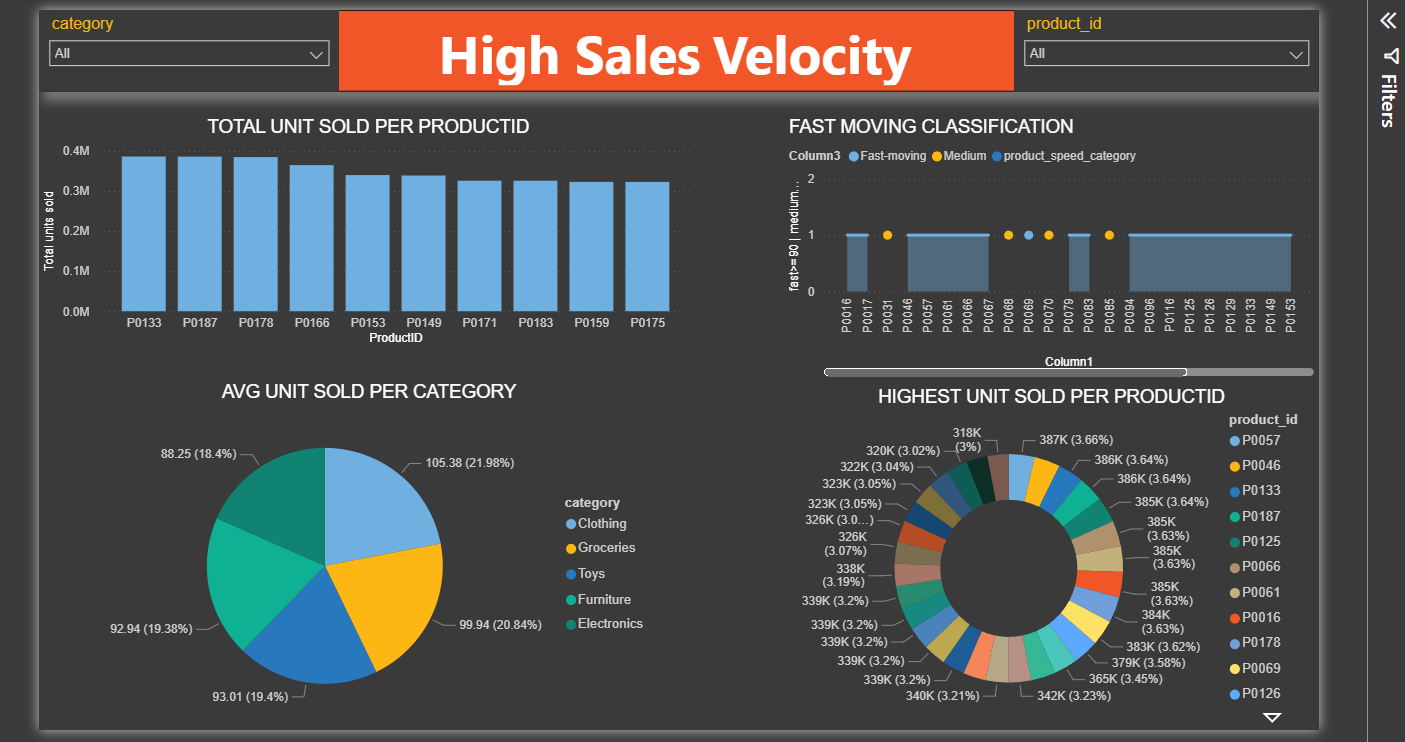

The page's visual inventory and layout, read from the dashboard file:
{"tool":"powerbi","page":{"name":"Page 1","canvas":[1280,720],"ordinal":0},"visuals":[{"type":"pieChart","title":"AVG UNIT SOLD PER CATEGORY","fields":{"Category":["fast moving products by category.category"],"Y":["Sum(fast moving products by category.average_unit_sold)"]},"box":[41.2,371.2,577.5,348.8],"z":0},{"type":"textbox","box":[0,0,1280,81.2],"z":1000},{"type":"donutChart","title":"HIGHEST UNIT SOLD PER PRODUCTID","fields":{"Category":["Total Units Sold per Product.product_id"],"Y":["Sum(Total Units Sold per Product.sum(units_sold))"]},"box":[745,376.2,535,343.8],"z":2000},{"type":"clusteredColumnChart","title":"TOTAL UNIT SOLD PER PRODUCTID","fields":{"Category":["TOTAL UNIT SOLD PER PRODUCTID.product_id"],"Y":["Sum(TOTAL UNIT SOLD PER PRODUCTID.sum(units_sold))"]},"box":[0,106.2,658.8,233.8],"z":3000},{"type":"areaChart","title":"FAST MOVING CLASSIFICATION","fields":{"Category":["FAST MOVING CLASSIFICATION.Column1"],"Y":["CountNonNull(FAST MOVING CLASSIFICATION.Column2)"],"Series":["FAST MOVING CLASSIFICATION.Column3"]},"box":[745,106.2,535,265],"z":4000},{"type":"slicer","fields":{"Values":["fast moving products by category.category"]},"box":[0,0,300,81.2],"z":4001},{"type":"slicer","fields":{"Values":["HIGHEST UNIT SOLD.product_id"]},"box":[975,0,305,81.2],"z":4002}]}

Visuals, with their boxes on the page's 1280x720 design canvas (x1, y1, x2, y2). These are canvas units, not pixel positions in the 1405x742 screenshot, which may show the page scaled, cropped or inside an application window:
"AVG UNIT SOLD PER CATEGORY" pieChart: rect(41, 371, 619, 720)
textbox: rect(0, 0, 1280, 81)
"HIGHEST UNIT SOLD PER PRODUCTID" donutChart: rect(745, 376, 1280, 720)
"TOTAL UNIT SOLD PER PRODUCTID" clusteredColumnChart: rect(0, 106, 659, 340)
"FAST MOVING CLASSIFICATION" areaChart: rect(745, 106, 1280, 371)
slicer - fast moving products by category.category: rect(0, 0, 300, 81)
slicer - HIGHEST UNIT SOLD.product_id: rect(975, 0, 1280, 81)
